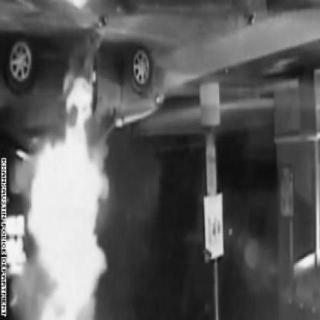Fire: (24, 71, 117, 320)
